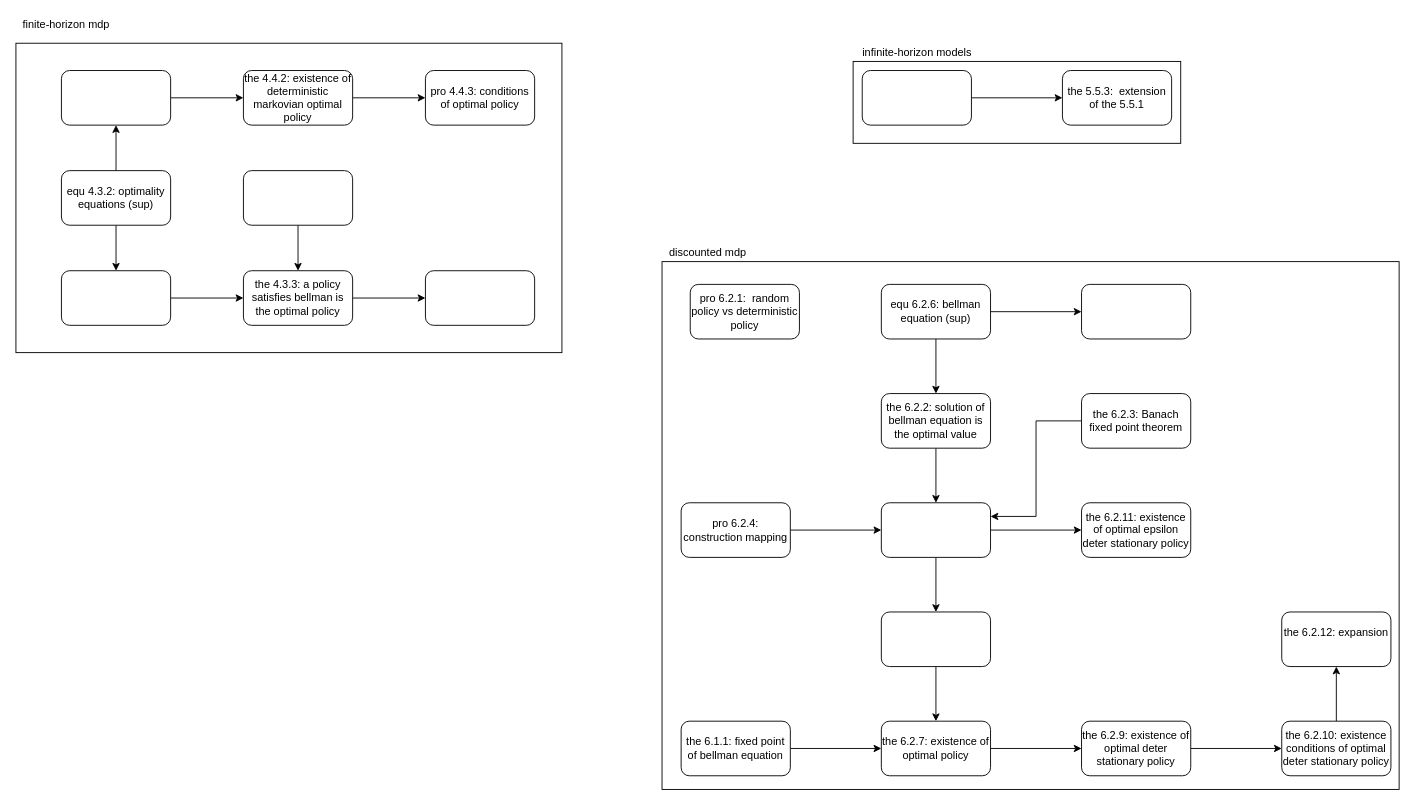
Some shapes in this 1415 by 805 pixel diagram are drawn without their labels. Here are the shapes that lost their labels. From the top down, the centre of each, then its label:
At [116,97]: "the 4.4.1: existence of deterministic history-dependent optimal policy".
At [916,97]: "the 5.5.1: given a historical policy, there exists an equivalent markov policy".
At [298,197]: "equ 4.3.5: optimality equations (max)".
At [116,297]: "the 4.3.2 : the solution of bellman equation equals to the optimal value".
At [480,297]: "the 4.3.4: epsilon optimal policy".
At [1136,311]: "equ 6.2.8: bellman equation (max)".
At [935,529]: "the 6.2.5: existence of optimal value".
At [935,639]: "the 6.2.6: optimal value implies optimal policy".
